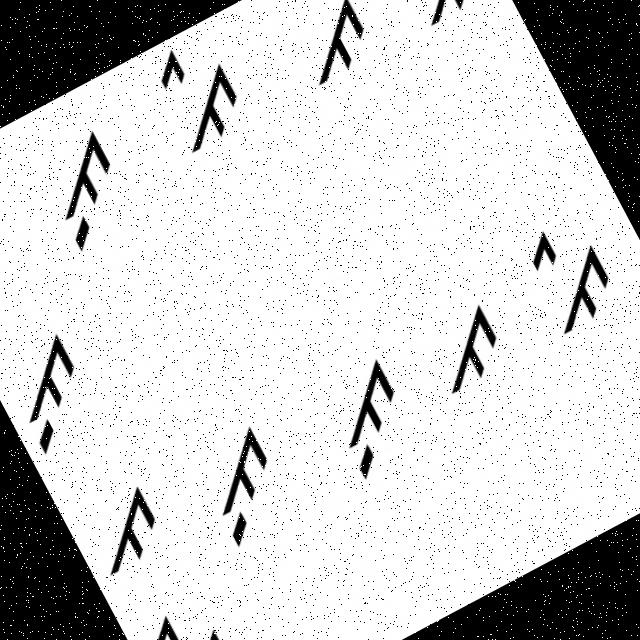ka: (68, 474, 182, 588), (408, 291, 518, 404), (277, 0, 389, 95), (0, 182, 23, 292)
ki: (507, 202, 639, 355), (131, 23, 263, 166), (129, 590, 261, 639), (377, 0, 501, 38)
ku: (18, 116, 146, 258), (304, 350, 430, 490), (179, 416, 305, 554), (0, 326, 117, 462)
